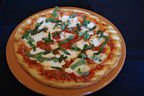sandwich: (10, 6, 125, 90)
